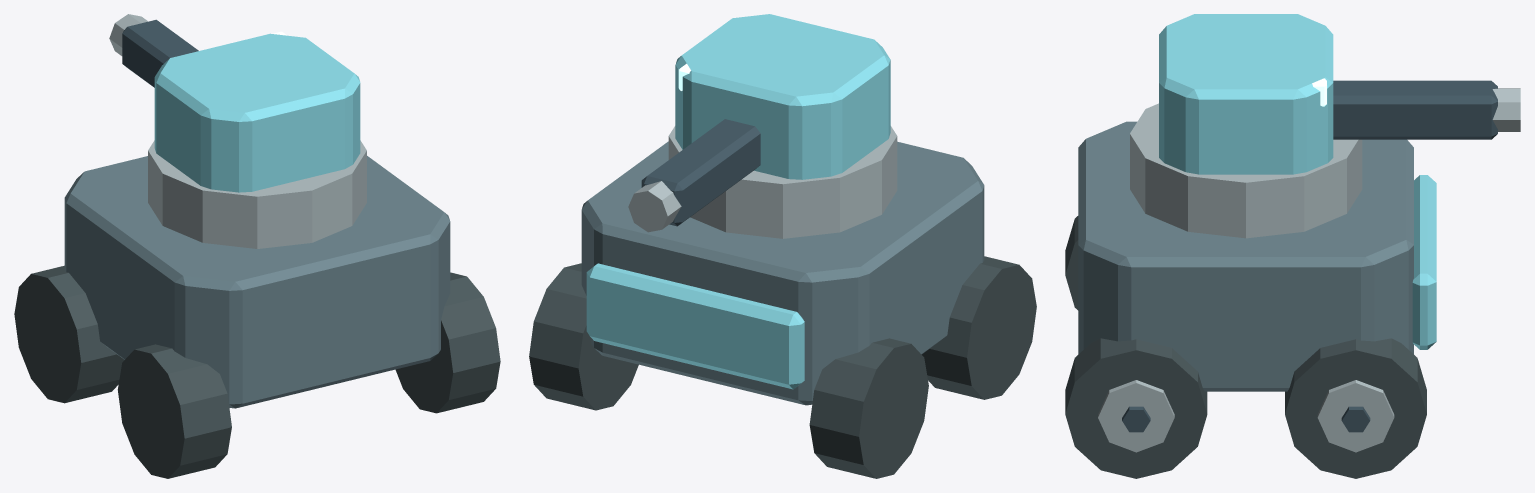
File: drone.glb
3 views of the same model, side by side, from view 1: azimuth 30°, elevation 25°; view 2: azimuth 150°, elevation 25°; view 3: azimuth 270°, elevation 25° (orthographic). The views are drawn at different scales.
Visible parts, largest first — view 1: chassis, head, turret_ring, tire.001, tire, tire.003, barrel, muzzle; view 2: chassis, head, front_plate, tire, turret_ring, tire.001, tire.002, barrel, muzzle; view 3: chassis, head, turret_ring, tire.003, tire.002, barrel, front_plate, hub.002, hub.003, muzzle, tire.001, hub_pin.002 (+1 smaller).
Part boxes in pixels (bbox=[...]): chassis: bbox=[64, 156, 450, 408]; head: bbox=[154, 33, 360, 192]; turret_ring: bbox=[148, 140, 366, 248]; tire.001: bbox=[117, 344, 231, 478]; tire: bbox=[14, 265, 124, 403]; tire.003: bbox=[395, 272, 500, 413]; barrel: bbox=[122, 19, 198, 87]; muzzle: bbox=[109, 14, 147, 55]; chassis: bbox=[581, 141, 984, 405]; head: bbox=[675, 14, 890, 179]; front_plate: bbox=[586, 263, 804, 389]; tire: bbox=[809, 338, 928, 478]; turret_ring: bbox=[668, 126, 897, 238]; tire.001: bbox=[921, 256, 1036, 399]; tire.002: bbox=[529, 263, 638, 410]; barrel: bbox=[641, 119, 760, 226]; muzzle: bbox=[628, 181, 681, 232]; chassis: bbox=[1078, 121, 1413, 391]; head: bbox=[1159, 14, 1333, 174]; turret_ring: bbox=[1130, 103, 1362, 238]; tire.003: bbox=[1065, 338, 1207, 478]; tire.002: bbox=[1285, 338, 1426, 478]; barrel: bbox=[1333, 80, 1497, 139]; front_plate: bbox=[1412, 175, 1436, 349]; hub.002: bbox=[1317, 380, 1394, 452]; hub.003: bbox=[1098, 380, 1174, 452]; muzzle: bbox=[1492, 88, 1520, 131]; tire.001: bbox=[1065, 216, 1078, 310]; hub_pin.002: bbox=[1341, 406, 1370, 432].
Size of the model in its own units: 0.6235 by 0.59 by 0.705.
